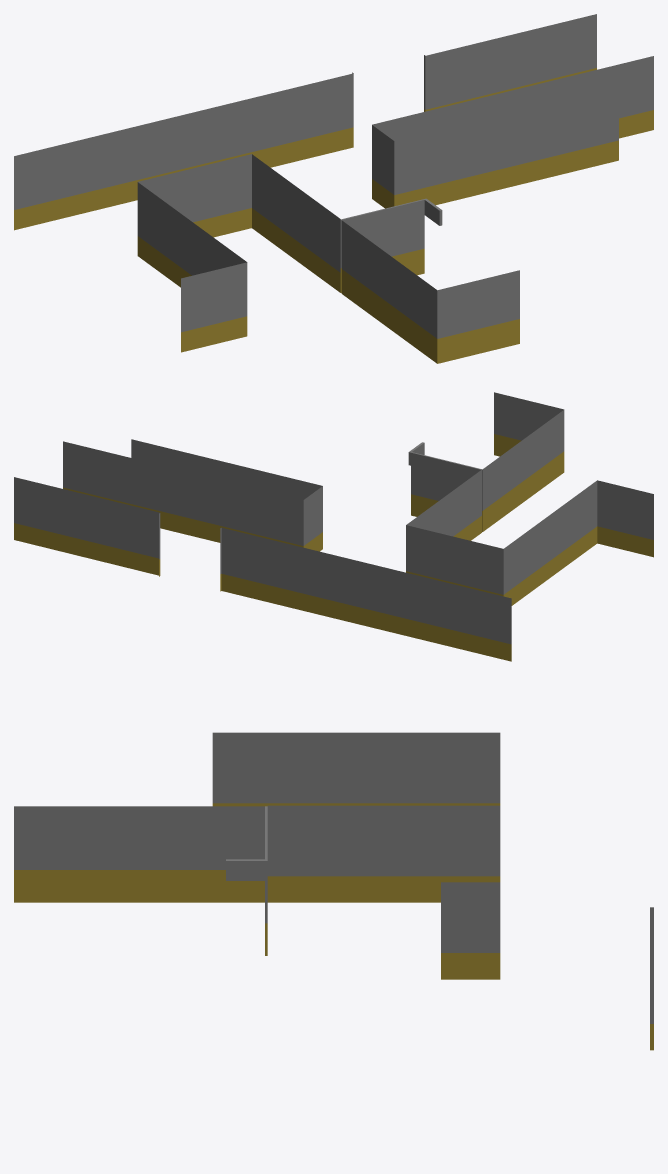
File: New Unwrapped Walls_(No Walls).FBX
The picture shows the model from 3 angles, top to bottom: view 1: azimuth 30°, elevation 25°; view 2: azimuth 150°, elevation 25°; view 3: azimuth 270°, elevation 25°; orthographic projection. The views are drawn at different scales.
Visible parts, largest first — view 1: CorridorHallway_002, CorridorHallwayToMainOfficeWall_001, CorridorHallway_003, DetectiveOfficeWalls_001, DetectiveOfficeSideWall_001; view 2: CorridorHallway_002, CorridorHallwayToMainOfficeWall_001, CorridorHallway_003, DetectiveOfficeWalls_001, DetectiveOfficeSideWall_001; view 3: CorridorHallway_003, DetectiveOfficeWalls_001, CorridorHallwayToMainOfficeWall_001, DetectiveOfficeSideWall_001.
Part boxes in pixels (<box>): CorridorHallway_002: <box>14,14,596,230</box>; CorridorHallwayToMainOfficeWall_001: <box>372,56,653,208</box>; CorridorHallway_003: <box>137,154,340,352</box>; DetectiveOfficeWalls_001: <box>341,220,519,363</box>; DetectiveOfficeSideWall_001: <box>340,198,442,292</box>; CorridorHallway_002: <box>14,477,511,661</box>; CorridorHallwayToMainOfficeWall_001: <box>63,439,322,551</box>; CorridorHallway_003: <box>406,470,653,605</box>; DetectiveOfficeWalls_001: <box>482,392,564,531</box>; DetectiveOfficeSideWall_001: <box>408,442,482,531</box>; CorridorHallway_003: <box>212,732,500,902</box>; DetectiveOfficeWalls_001: <box>14,806,264,902</box>; CorridorHallwayToMainOfficeWall_001: <box>441,882,500,979</box>; DetectiveOfficeSideWall_001: <box>226,806,267,955</box>.
Size of the model in its own units: 804 by 97.68 by 583.
